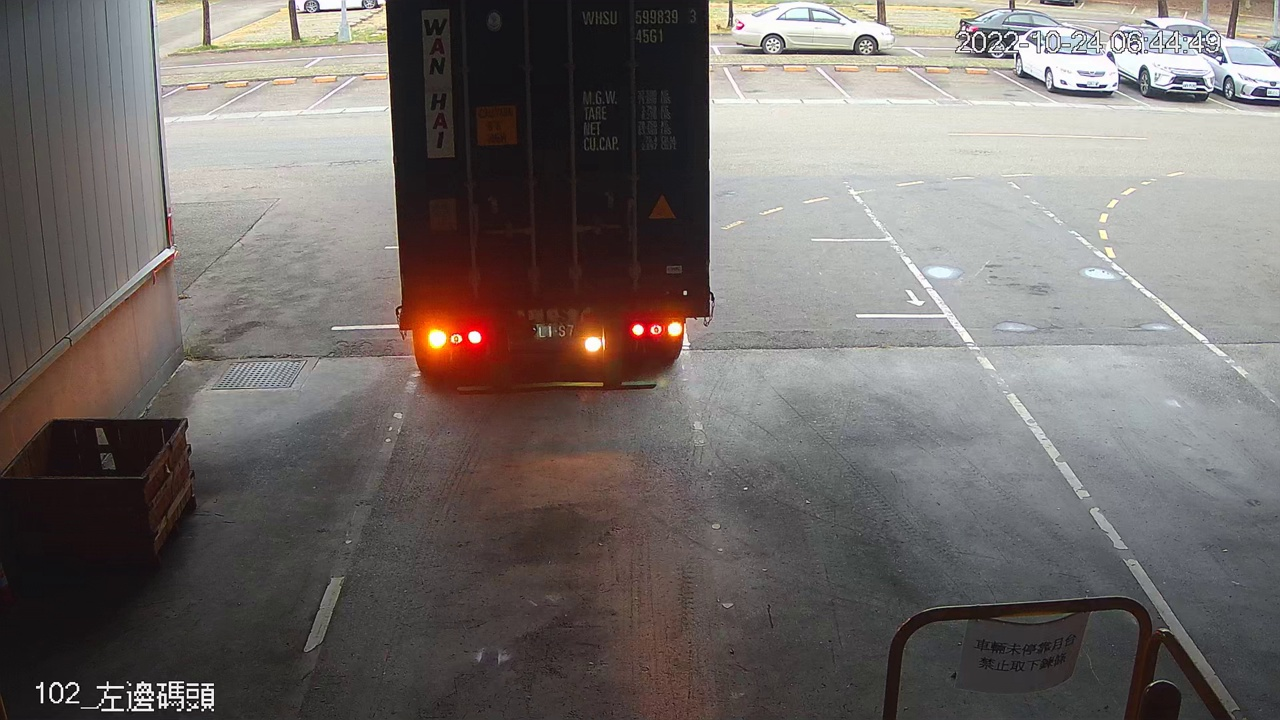container: (577, 5, 703, 47)
